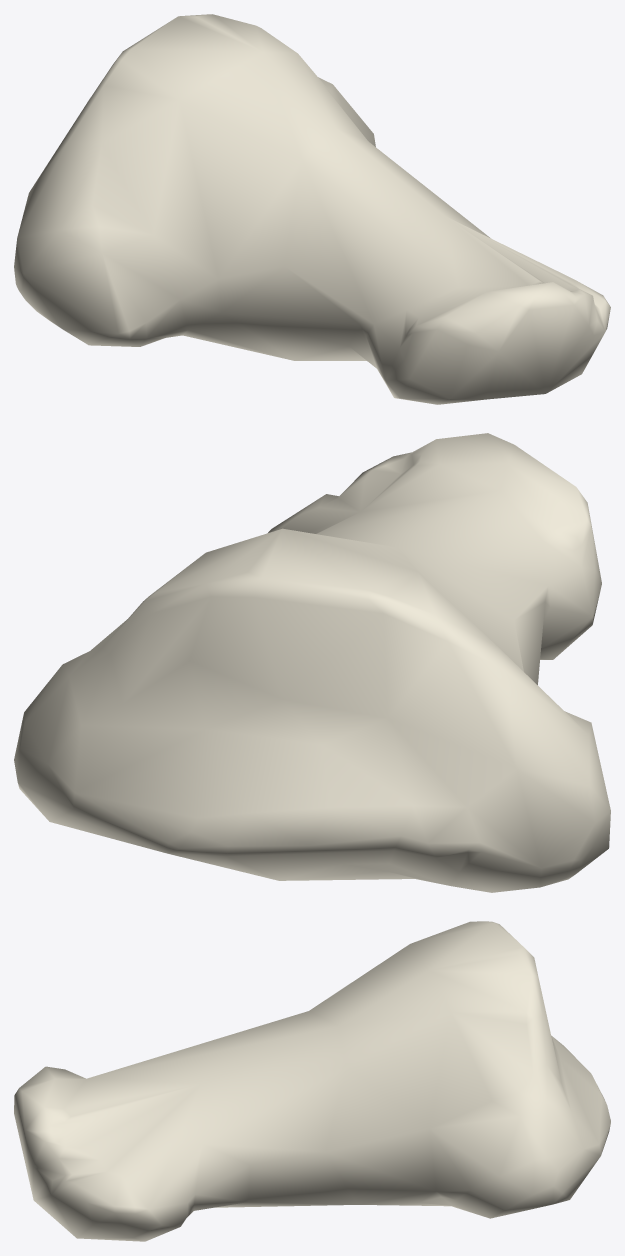
3 views of the same model, one above another, from view 1: azimuth 30°, elevation 25°; view 2: azimuth 150°, elevation 25°; view 3: azimuth 270°, elevation 25° (orthographic). The views are drawn at different scales.
Visible parts, largest first — view 1: ZA_689f96bec92fe901; view 2: ZA_689f96bec92fe901; view 3: ZA_689f96bec92fe901.
Boxes of the visible parts, left/top/right/bottom form: ZA_689f96bec92fe901: left=14, top=14, right=610, bottom=404; ZA_689f96bec92fe901: left=14, top=433, right=610, bottom=892; ZA_689f96bec92fe901: left=14, top=921, right=610, bottom=1241.
Size of the model in its own units: 0.0207 by 0.0115 by 0.0269.
